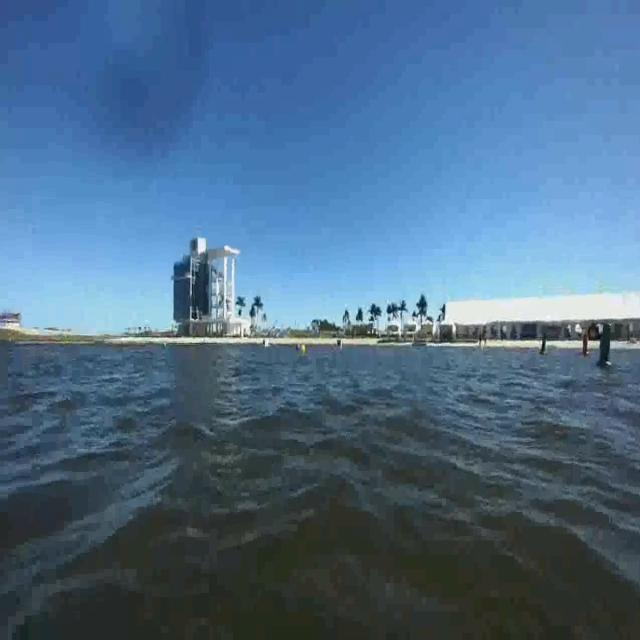green-column-buoy: (596, 322, 616, 368), (538, 333, 548, 357)
red-column-buoy: (580, 329, 590, 360)
